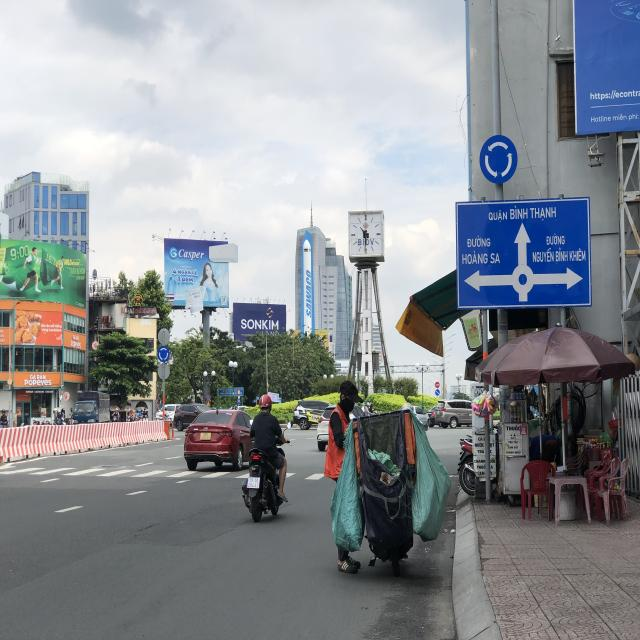Bien bao noi giao nhau chay theo vong xuyen: (474, 132, 520, 186), (157, 344, 170, 364)
